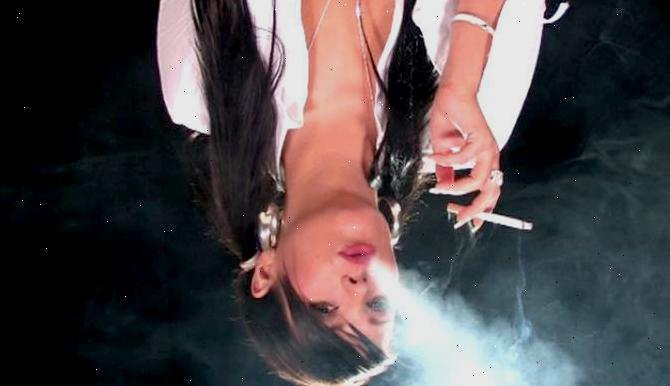smoke: (360, 259, 548, 386)
